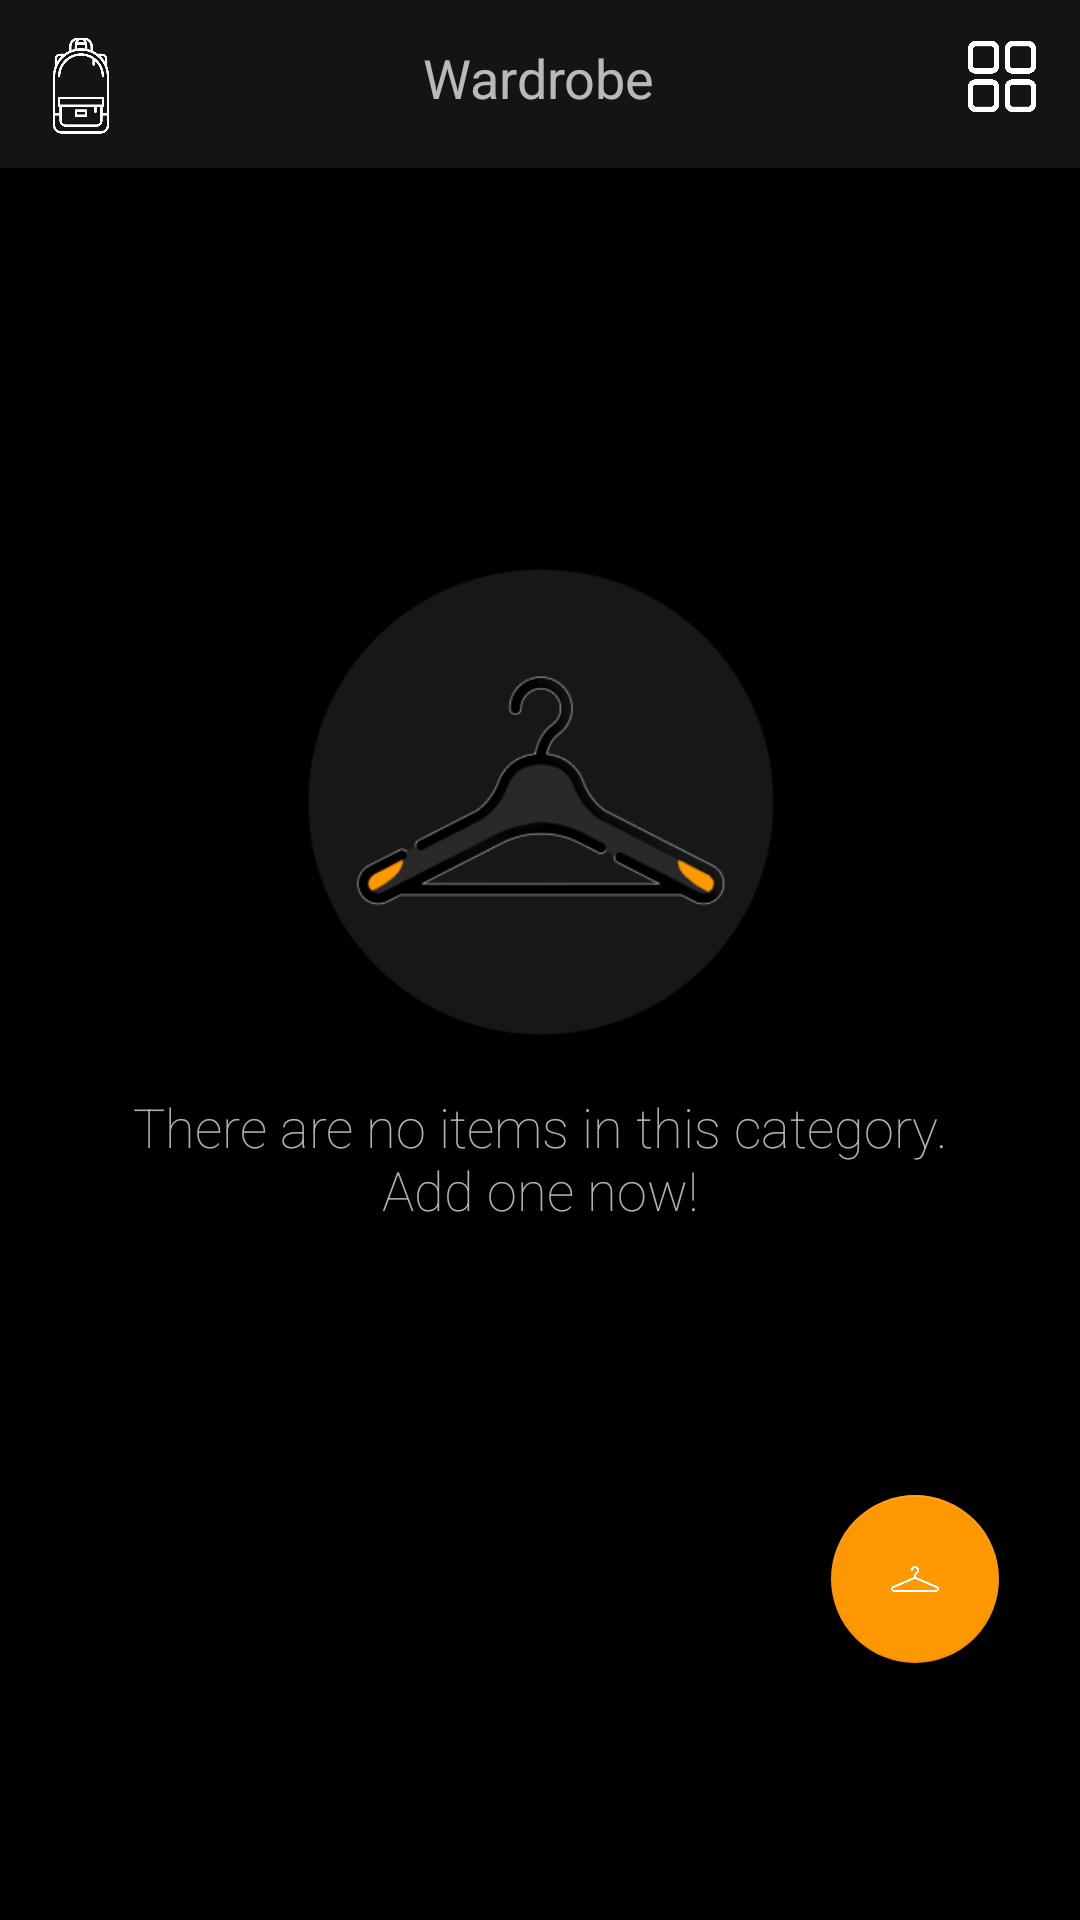

Icons on this 1080×1920 Android screen, each with its box as (x1, y1, x2, y2):
backpack: (53, 38, 109, 134)
gridview: (968, 41, 1036, 112)
